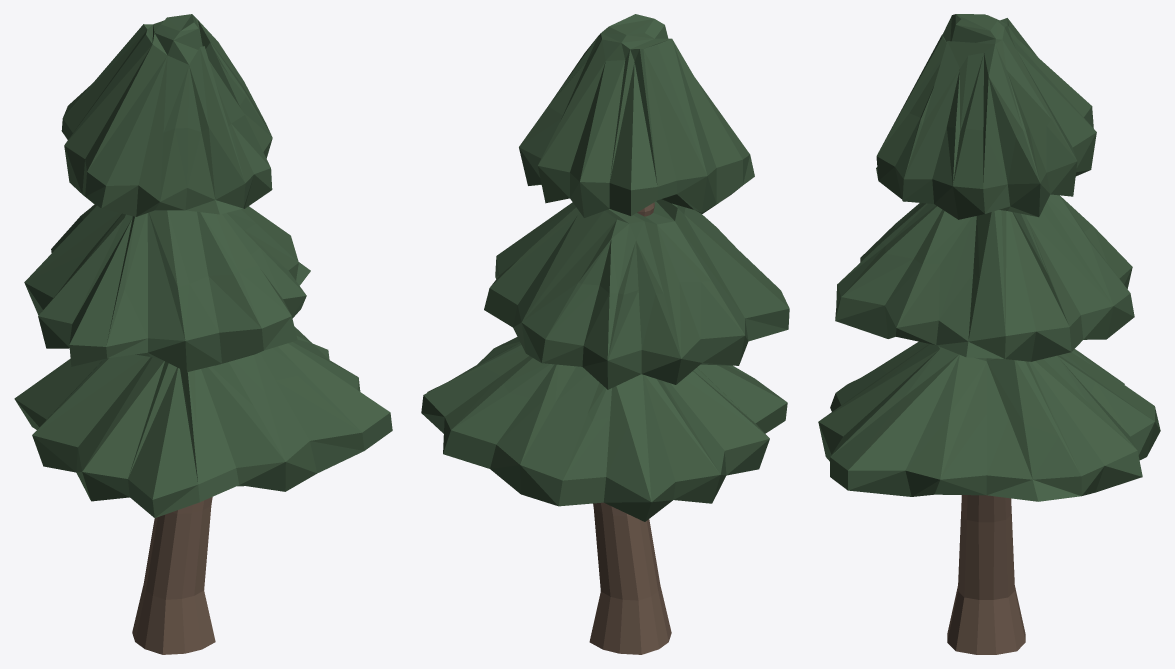
File: Trees2.fbx
3 renders of one model, left to right at view 1: azimuth 30°, elevation 25°; view 2: azimuth 150°, elevation 25°; view 3: azimuth 270°, elevation 25°, orthographic.
Parts seen in each view (by area): view 1: Trunk2; view 2: Trunk2; view 3: Trunk2.
Part boxes in pixels (box(x1,y1,x2,y2)): Trunk2: box(14, 14, 392, 654); Trunk2: box(421, 14, 789, 654); Trunk2: box(818, 14, 1160, 654).
Size of the model in its own units: 3331 by 6318 by 3148.
